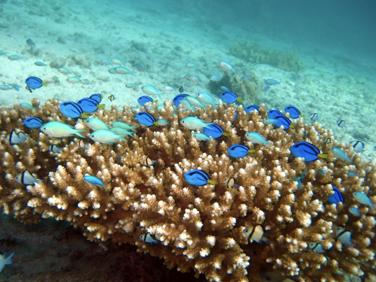Acanthuridae -Surgeonfishes-: (289, 139, 330, 163), (183, 168, 218, 188), (58, 102, 86, 121), (134, 110, 160, 127), (23, 74, 48, 91), (21, 116, 47, 129), (220, 90, 244, 104)
